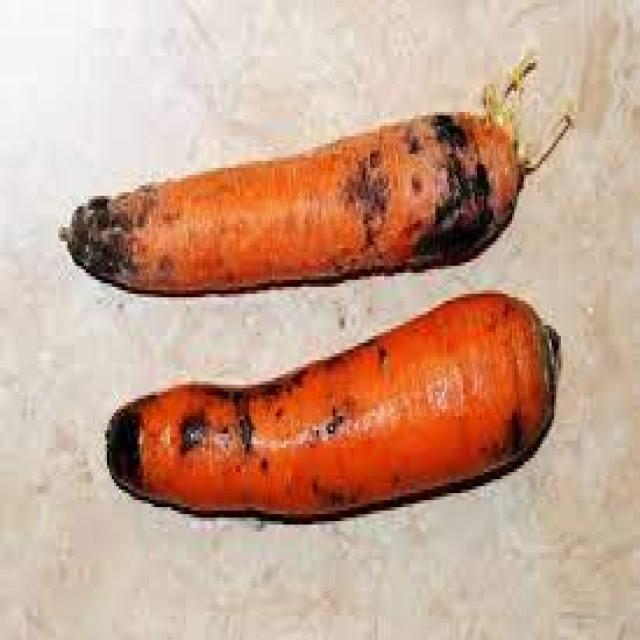Stale_Carrot: (109, 312, 564, 515), (51, 107, 525, 294)
